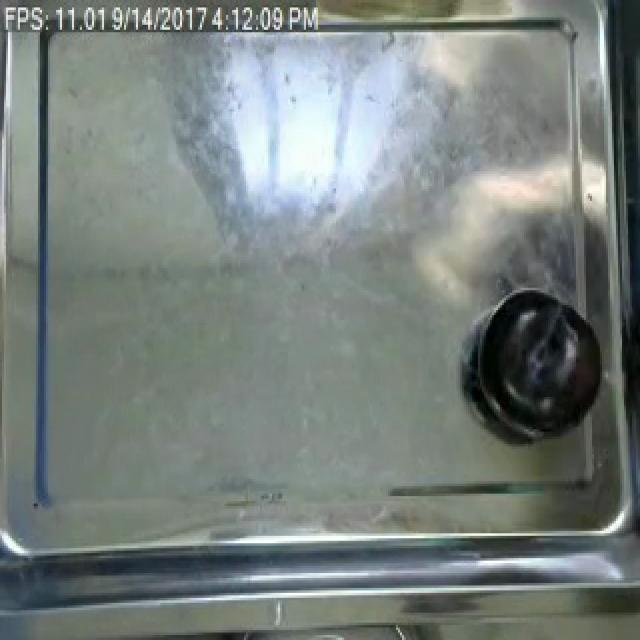Fruit: (472, 288, 588, 427)
